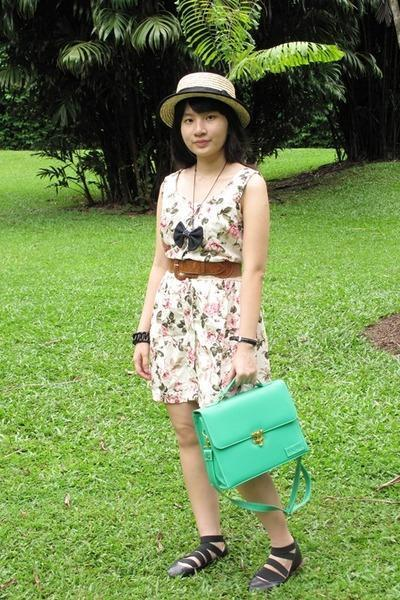bag: (187, 379, 309, 487)
dress: (136, 165, 264, 402)
hat: (160, 72, 227, 126)
shoe: (180, 528, 302, 599)
